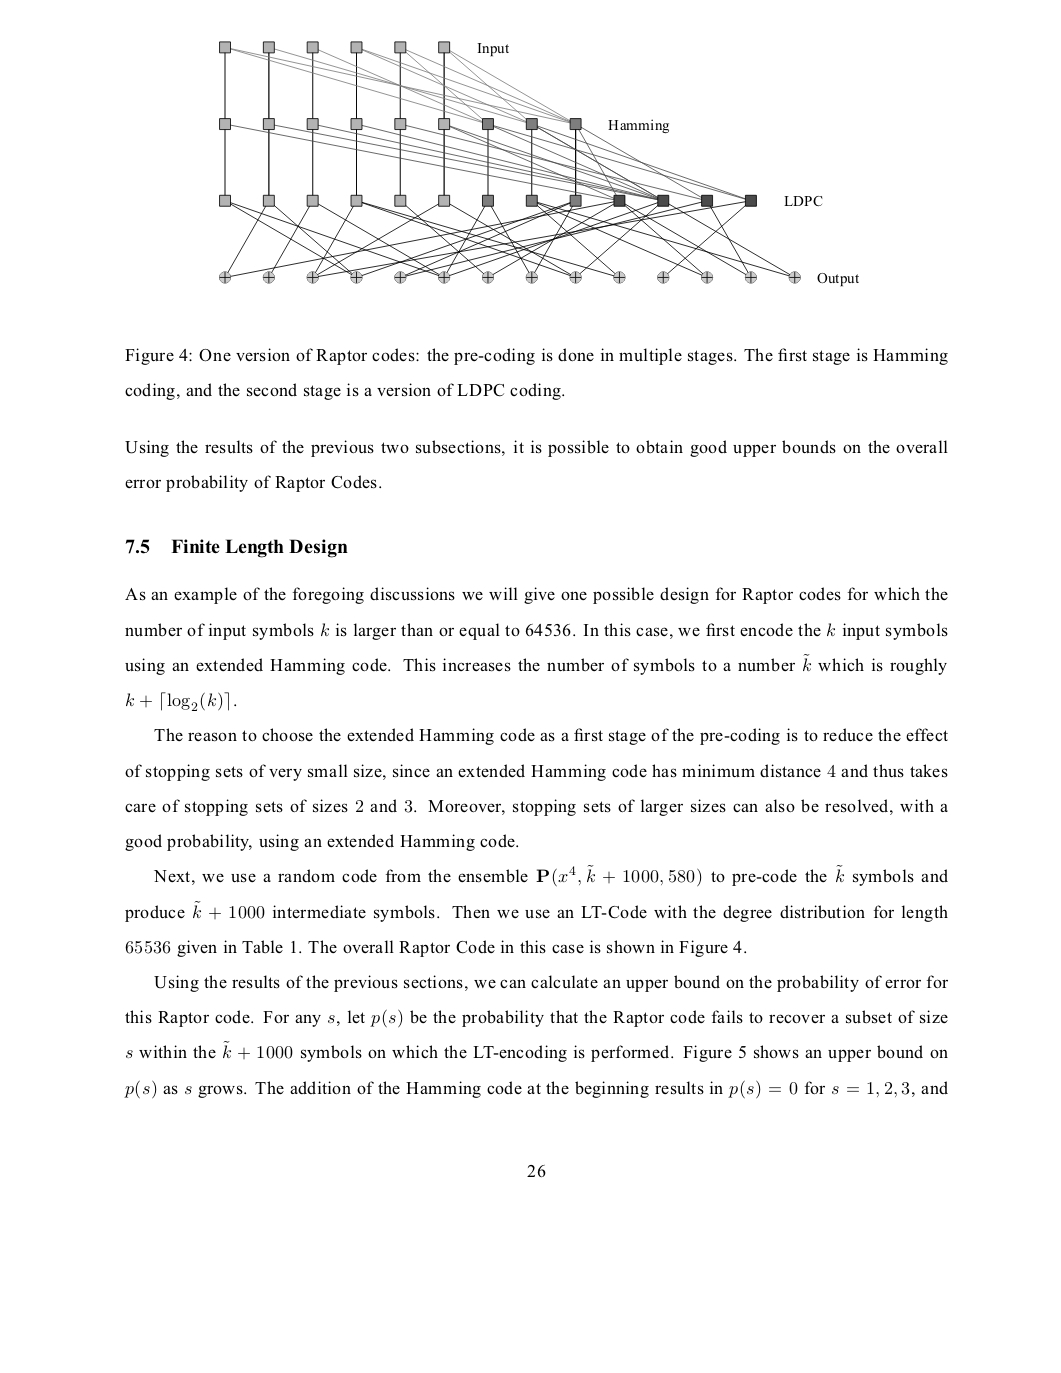figure: (220, 40, 858, 288)
formula: (126, 691, 236, 711)
